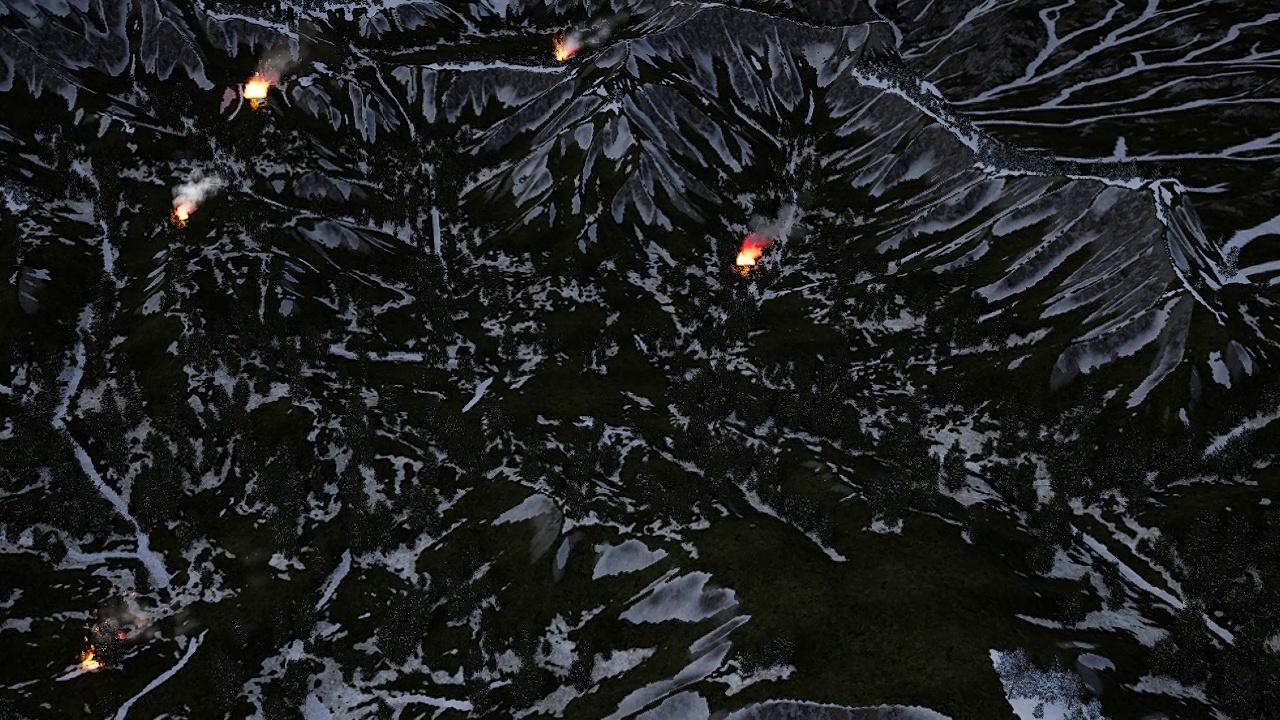fire: (247, 77, 272, 104), (733, 242, 758, 266), (176, 203, 195, 222), (81, 654, 101, 672), (556, 41, 574, 60)
smoke: (88, 588, 151, 656), (741, 203, 792, 246), (257, 38, 306, 81), (174, 174, 224, 212), (561, 16, 615, 50)
